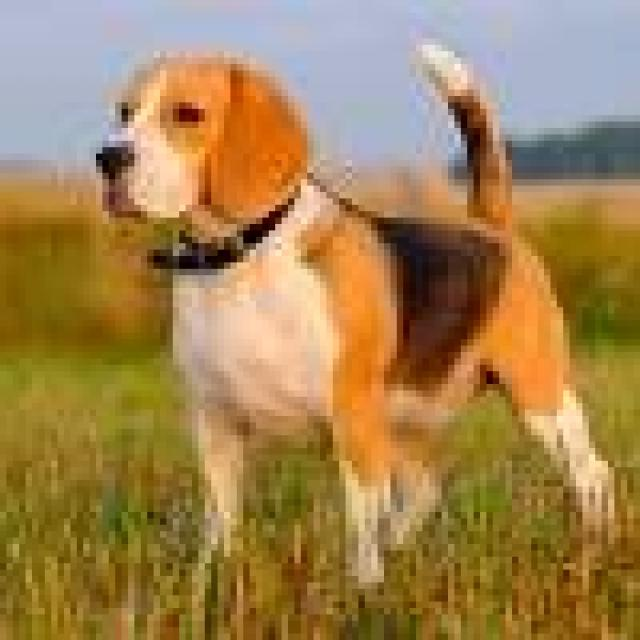Dog: (90, 33, 618, 593)
